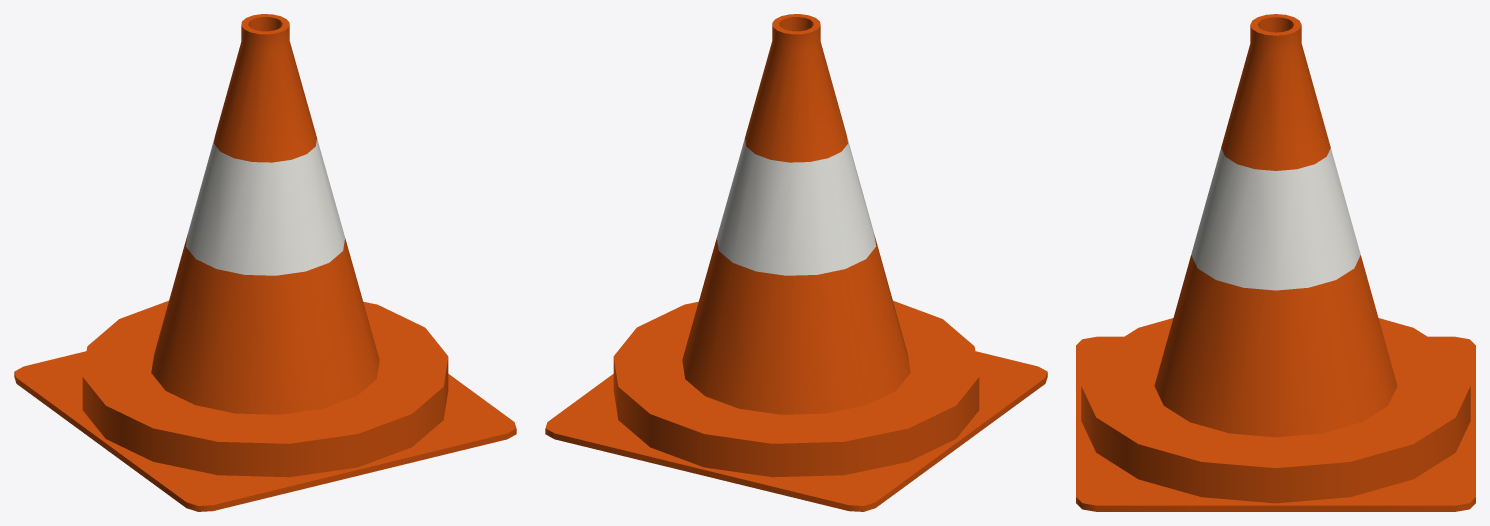
Rendered from TrafficCone_Small_Orange.gltf.
The picture shows the model from 3 angles, left to right: view 1: azimuth 30°, elevation 25°; view 2: azimuth 150°, elevation 25°; view 3: azimuth 270°, elevation 25°; orthographic projection. The views are drawn at different scales.
Parts seen in each view (by area): view 1: TrafficCone_Small_Orange; view 2: TrafficCone_Small_Orange; view 3: TrafficCone_Small_Orange.
Part boxes in pixels (x1=…): TrafficCone_Small_Orange: x1=14, y1=14, x2=516, y2=511; TrafficCone_Small_Orange: x1=545, y1=14, x2=1047, y2=511; TrafficCone_Small_Orange: x1=1076, y1=14, x2=1475, y2=511.
Bounding box in the file's own units: 0.288 × 0.32 × 0.288.
